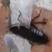cockroach: (9, 24, 48, 45)
